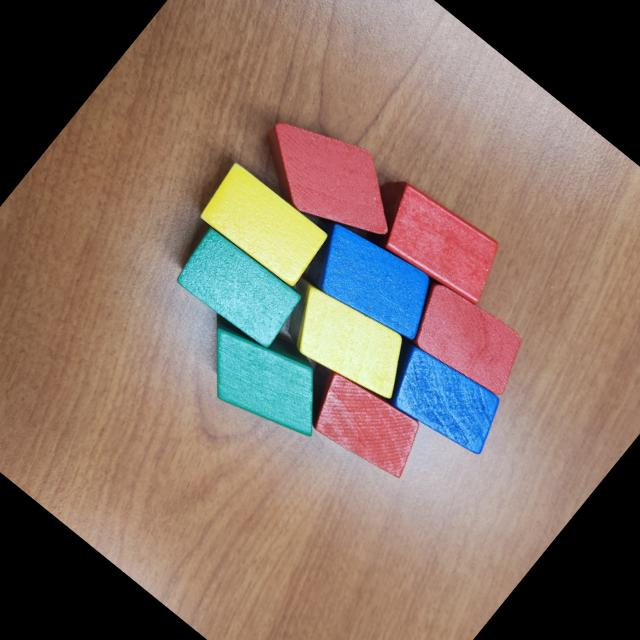blue: (294, 205, 454, 358), (366, 325, 518, 469)
green: (173, 289, 353, 462), (168, 222, 311, 356)
red: (242, 95, 419, 263), (362, 171, 515, 315), (390, 266, 540, 408), (290, 356, 436, 494)
yellow: (267, 266, 428, 418), (187, 154, 336, 294)
